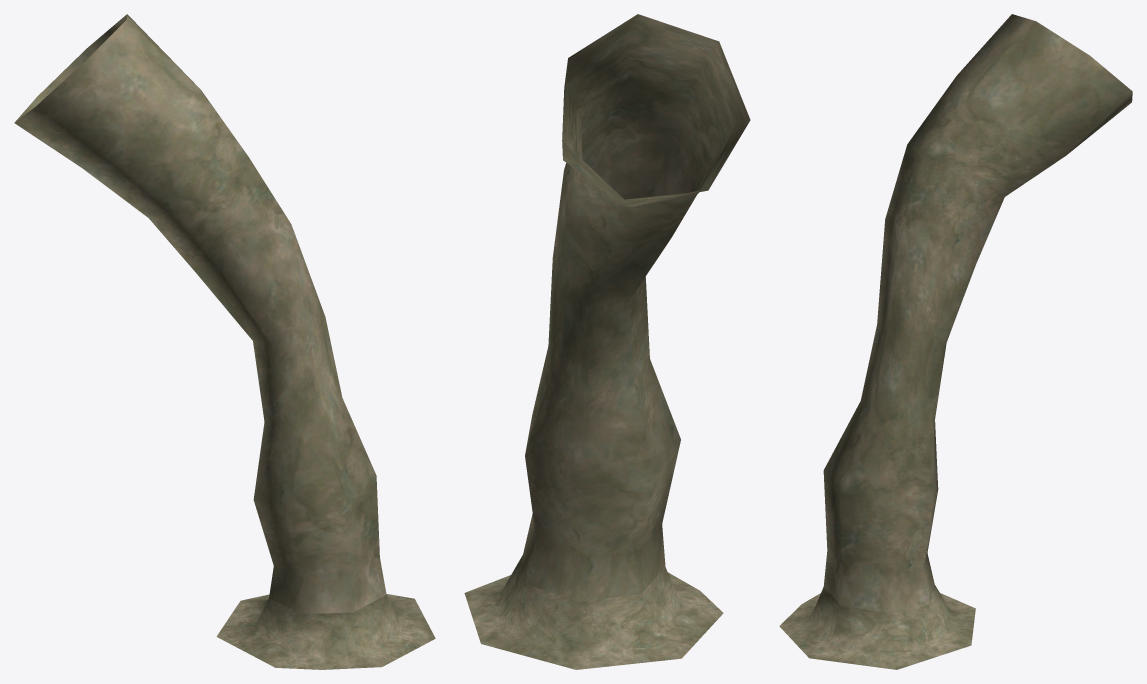
Rendered from EKH_GROTTO_PS_GR_ROCKFORM49383__GX.fbx.
3 views of the same model, side by side, from view 1: azimuth 30°, elevation 25°; view 2: azimuth 150°, elevation 25°; view 3: azimuth 270°, elevation 25° (orthographic). The views are drawn at different scales.
Parts seen in each view (by area): view 1: EKH_GROTTO_PS_GR_ROCKFORM49383__GX; view 2: EKH_GROTTO_PS_GR_ROCKFORM49383__GX; view 3: EKH_GROTTO_PS_GR_ROCKFORM49383__GX.
Boxes of the visible parts, bbox=[...] form: EKH_GROTTO_PS_GR_ROCKFORM49383__GX: bbox=[14, 14, 435, 669]; EKH_GROTTO_PS_GR_ROCKFORM49383__GX: bbox=[464, 14, 750, 669]; EKH_GROTTO_PS_GR_ROCKFORM49383__GX: bbox=[779, 14, 1132, 669].
Bounding box in the file's own units: 59161 × 106736 × 62264.
1 material, 1 textured.
